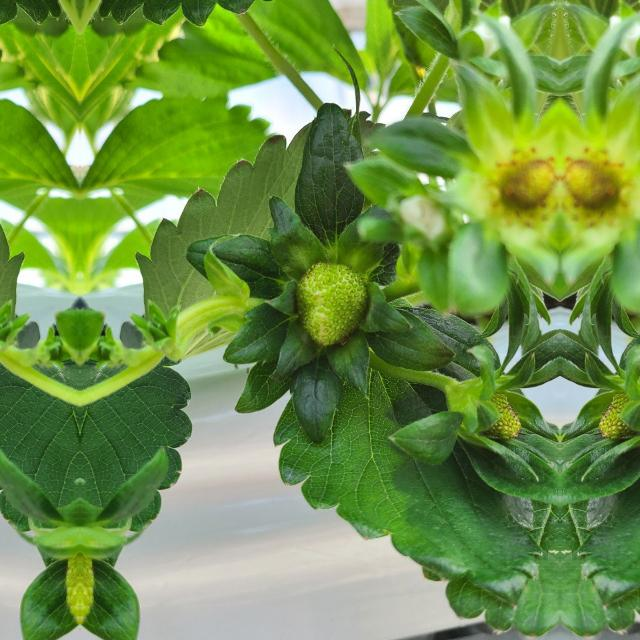Health_25: (296, 261, 366, 345)
